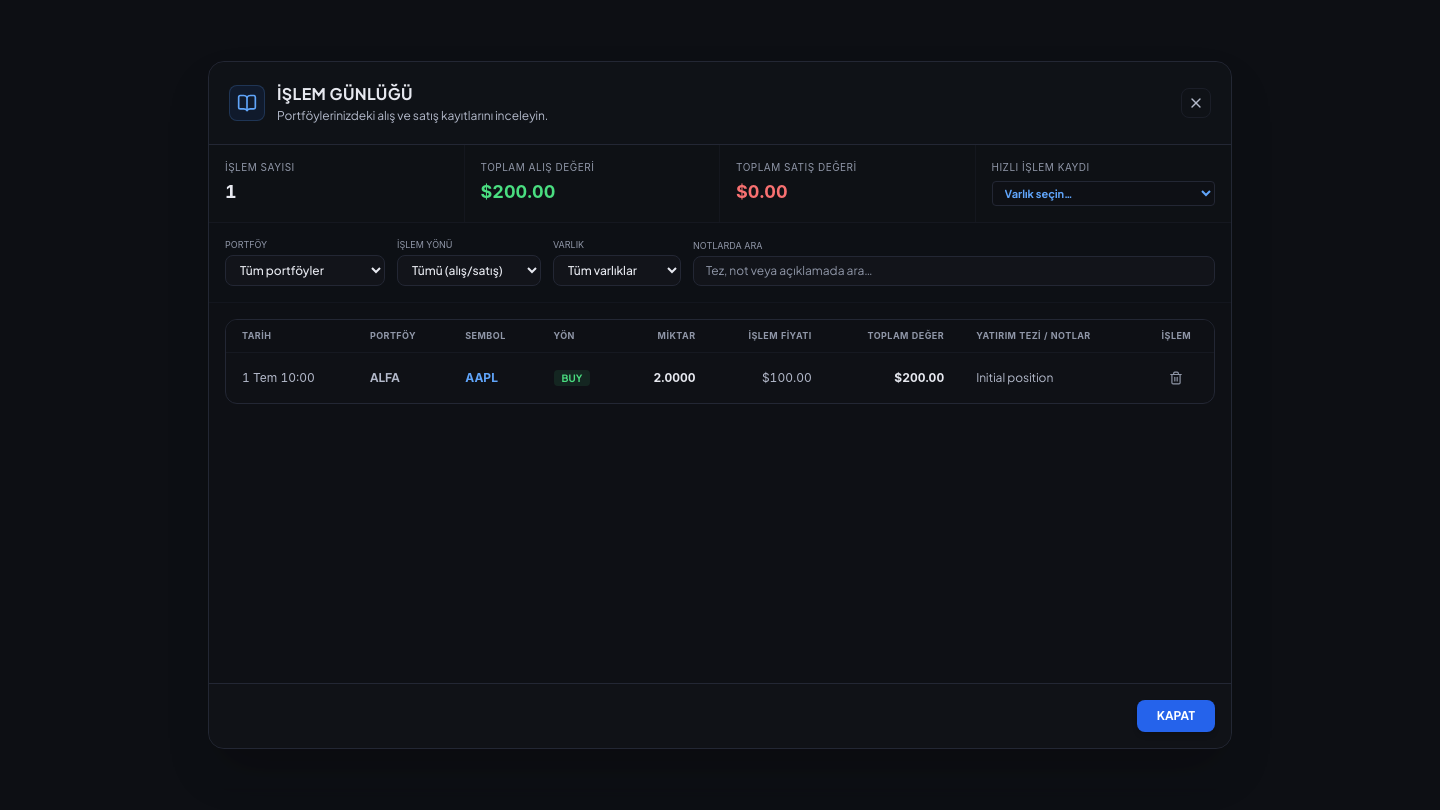
Scenario: TradingJournalModal › keeps the generic message for other delete failures
The width and height of the screenshot is (1440, 810).
Click the button named "İşlemi sil".
click(1176, 378)  # box x1=1163 y1=365 x2=1189 y2=391
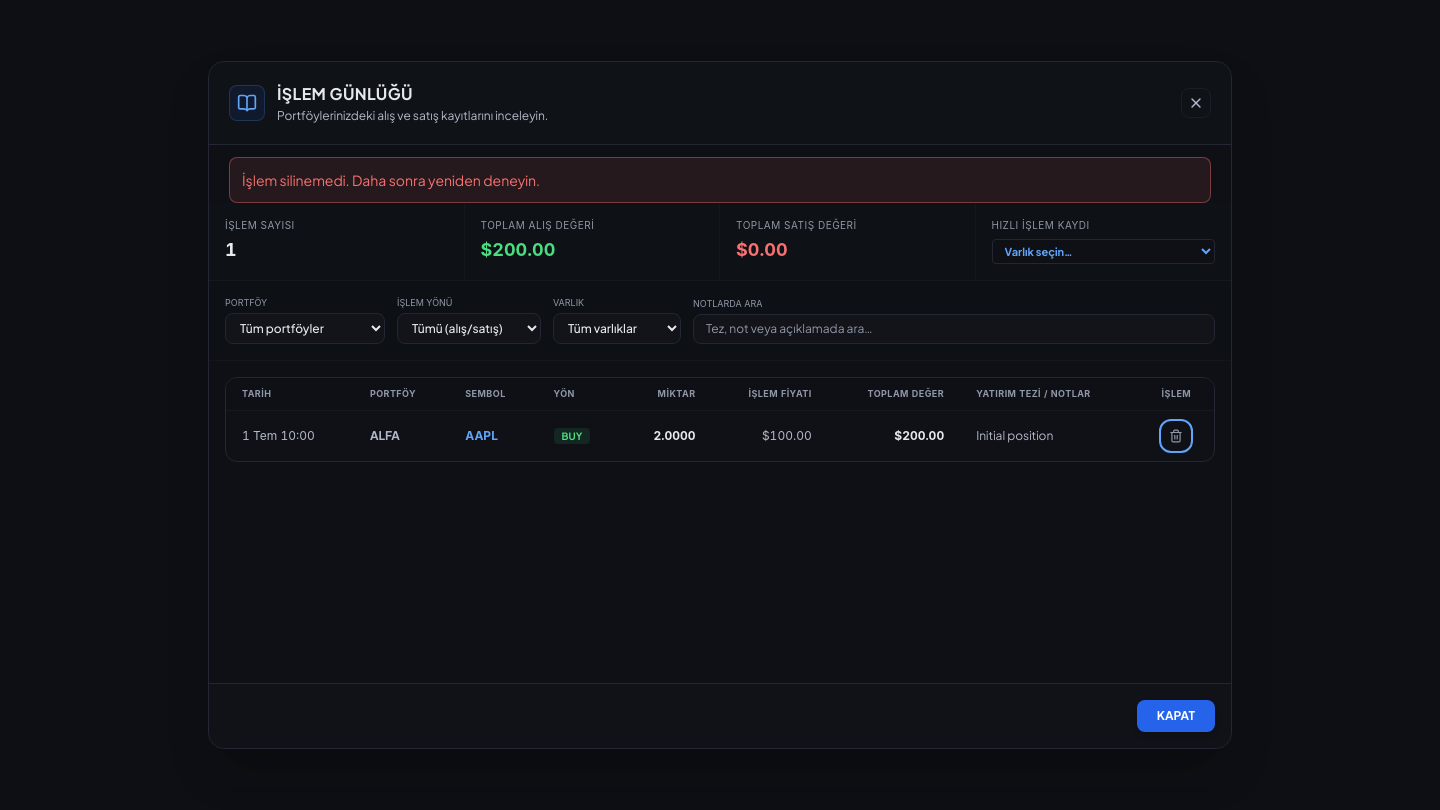
Check: the message reads "İşlem silinemedi. Daha sonra yeniden deneyin.", box x1=242 y1=171 x2=540 y2=189
